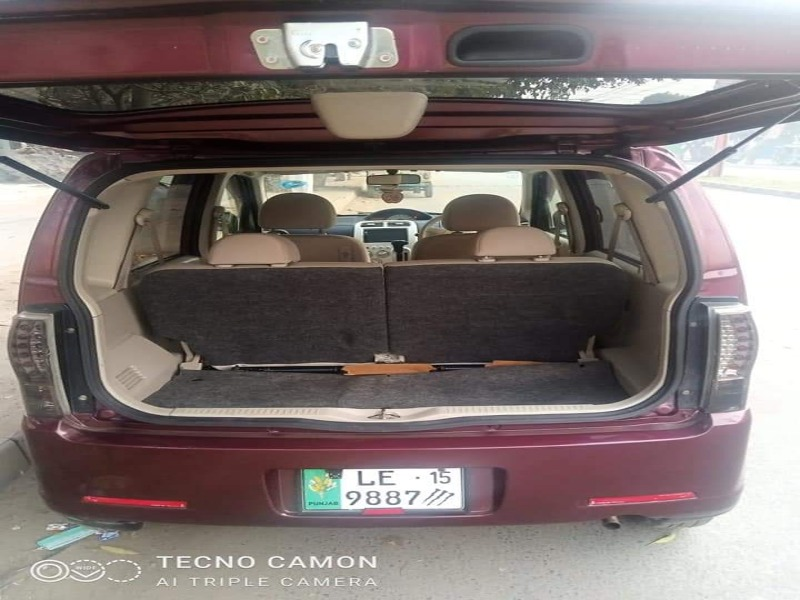License Plate: (297, 464, 469, 521)
